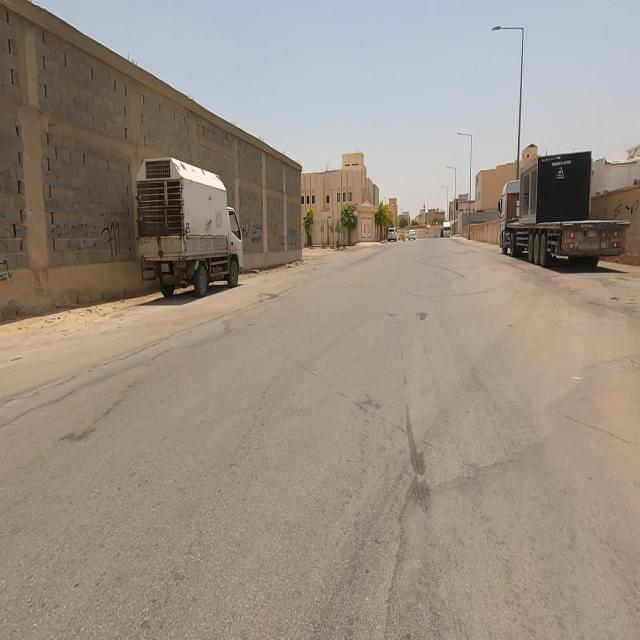Graffiti: (52, 222, 98, 255), (101, 222, 122, 260), (2, 256, 15, 289), (252, 222, 264, 247)
